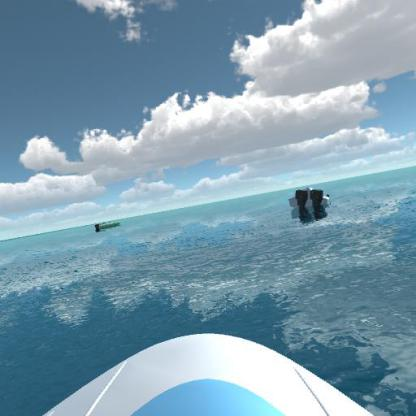usv0: (92, 214, 125, 237)
usv1: (284, 180, 336, 213)
